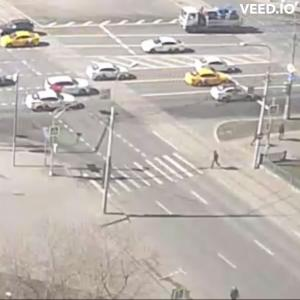car: (180, 4, 244, 36), (28, 89, 72, 113), (186, 68, 229, 88), (212, 85, 254, 105), (87, 65, 132, 83), (2, 19, 41, 39), (63, 78, 100, 99), (142, 37, 180, 55), (7, 32, 45, 49), (204, 59, 243, 75), (48, 76, 78, 94)
